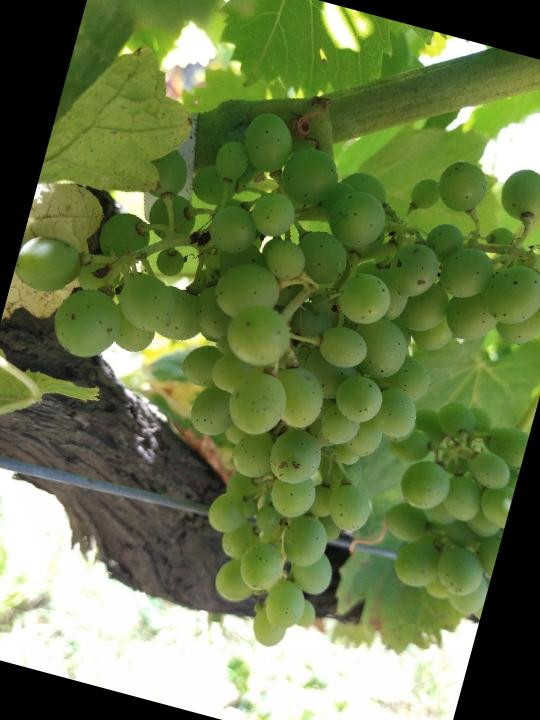grape: (0, 48, 540, 697)
